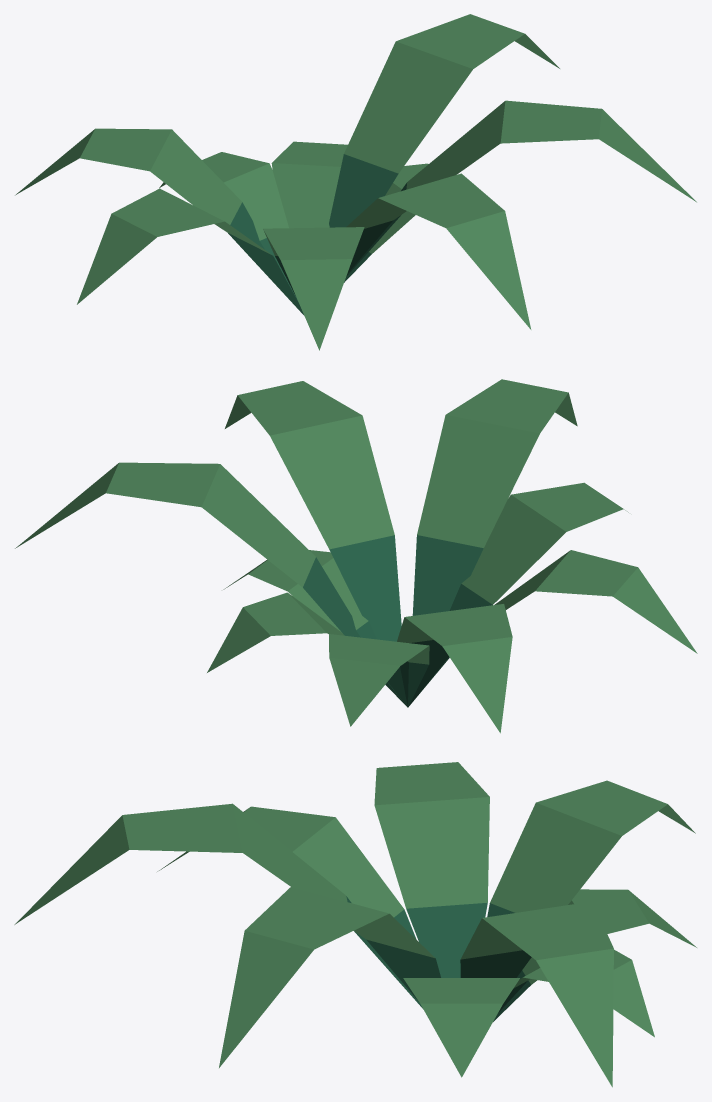
Rendered from moonfern.glb.
3 views of the same model, one above another, from view 1: azimuth 30°, elevation 25°; view 2: azimuth 150°, elevation 25°; view 3: azimuth 270°, elevation 25° (orthographic). The views are drawn at different scales.
Parts seen in each view (by area): view 1: Fern_frond; view 2: Fern_frond; view 3: Fern_frond.
Boxes of the visible parts, x1=… form: Fern_frond: x1=15, y1=14, x2=696, y2=350; Fern_frond: x1=15, y1=379, x2=697, y2=733; Fern_frond: x1=14, y1=762, x2=696, y2=1087.
Bounding box in the file's own units: 1.57 × 0.525 × 1.4.
